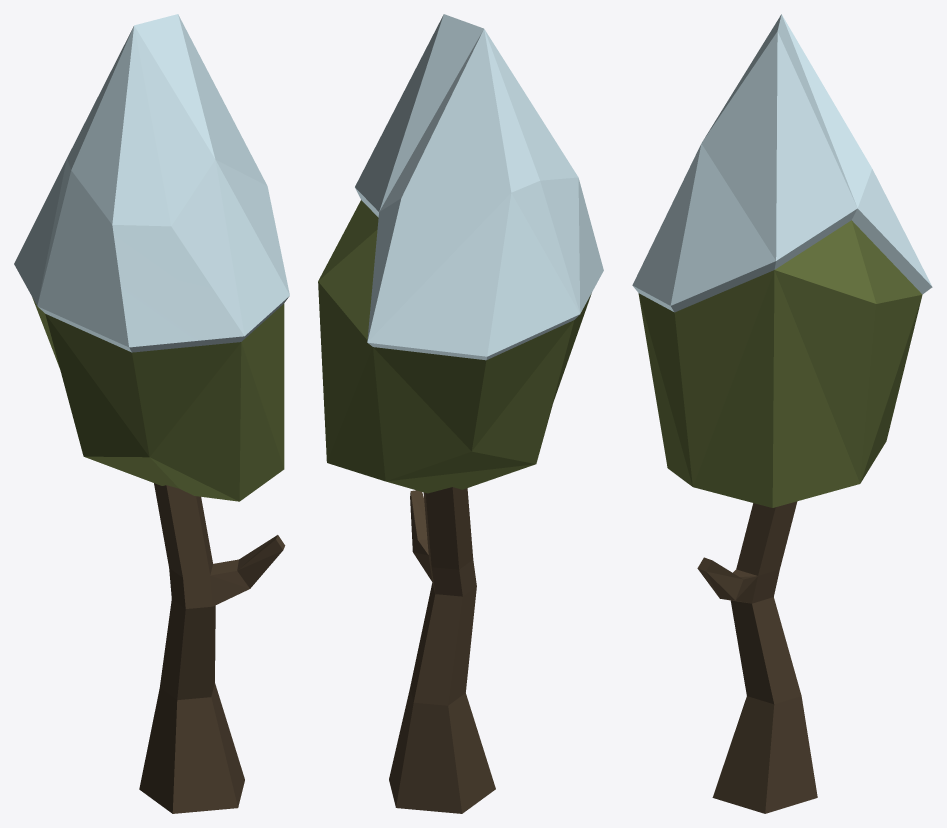
Rendered from SM_Env_Tree_010_Snow.gltf.
3 renders of one model, left to right at view 1: azimuth 30°, elevation 25°; view 2: azimuth 150°, elevation 25°; view 3: azimuth 270°, elevation 25°, orthographic. The views are drawn at different scales.
Visible parts, largest first — view 1: SM_Env_Tree_010_Snow; view 2: SM_Env_Tree_010_Snow; view 3: SM_Env_Tree_010_Snow.
Part boxes in pixels (box(x1,y1,x2,y2)): SM_Env_Tree_010_Snow: box(14, 14, 289, 813); SM_Env_Tree_010_Snow: box(318, 14, 603, 813); SM_Env_Tree_010_Snow: box(632, 14, 932, 813).
Bounding box in the file's own units: 1.96 × 6.25 × 2.26.
1 material, 1 textured.
